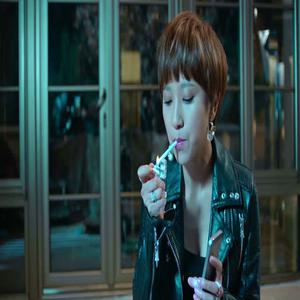cigarette: (152, 140, 181, 162)
